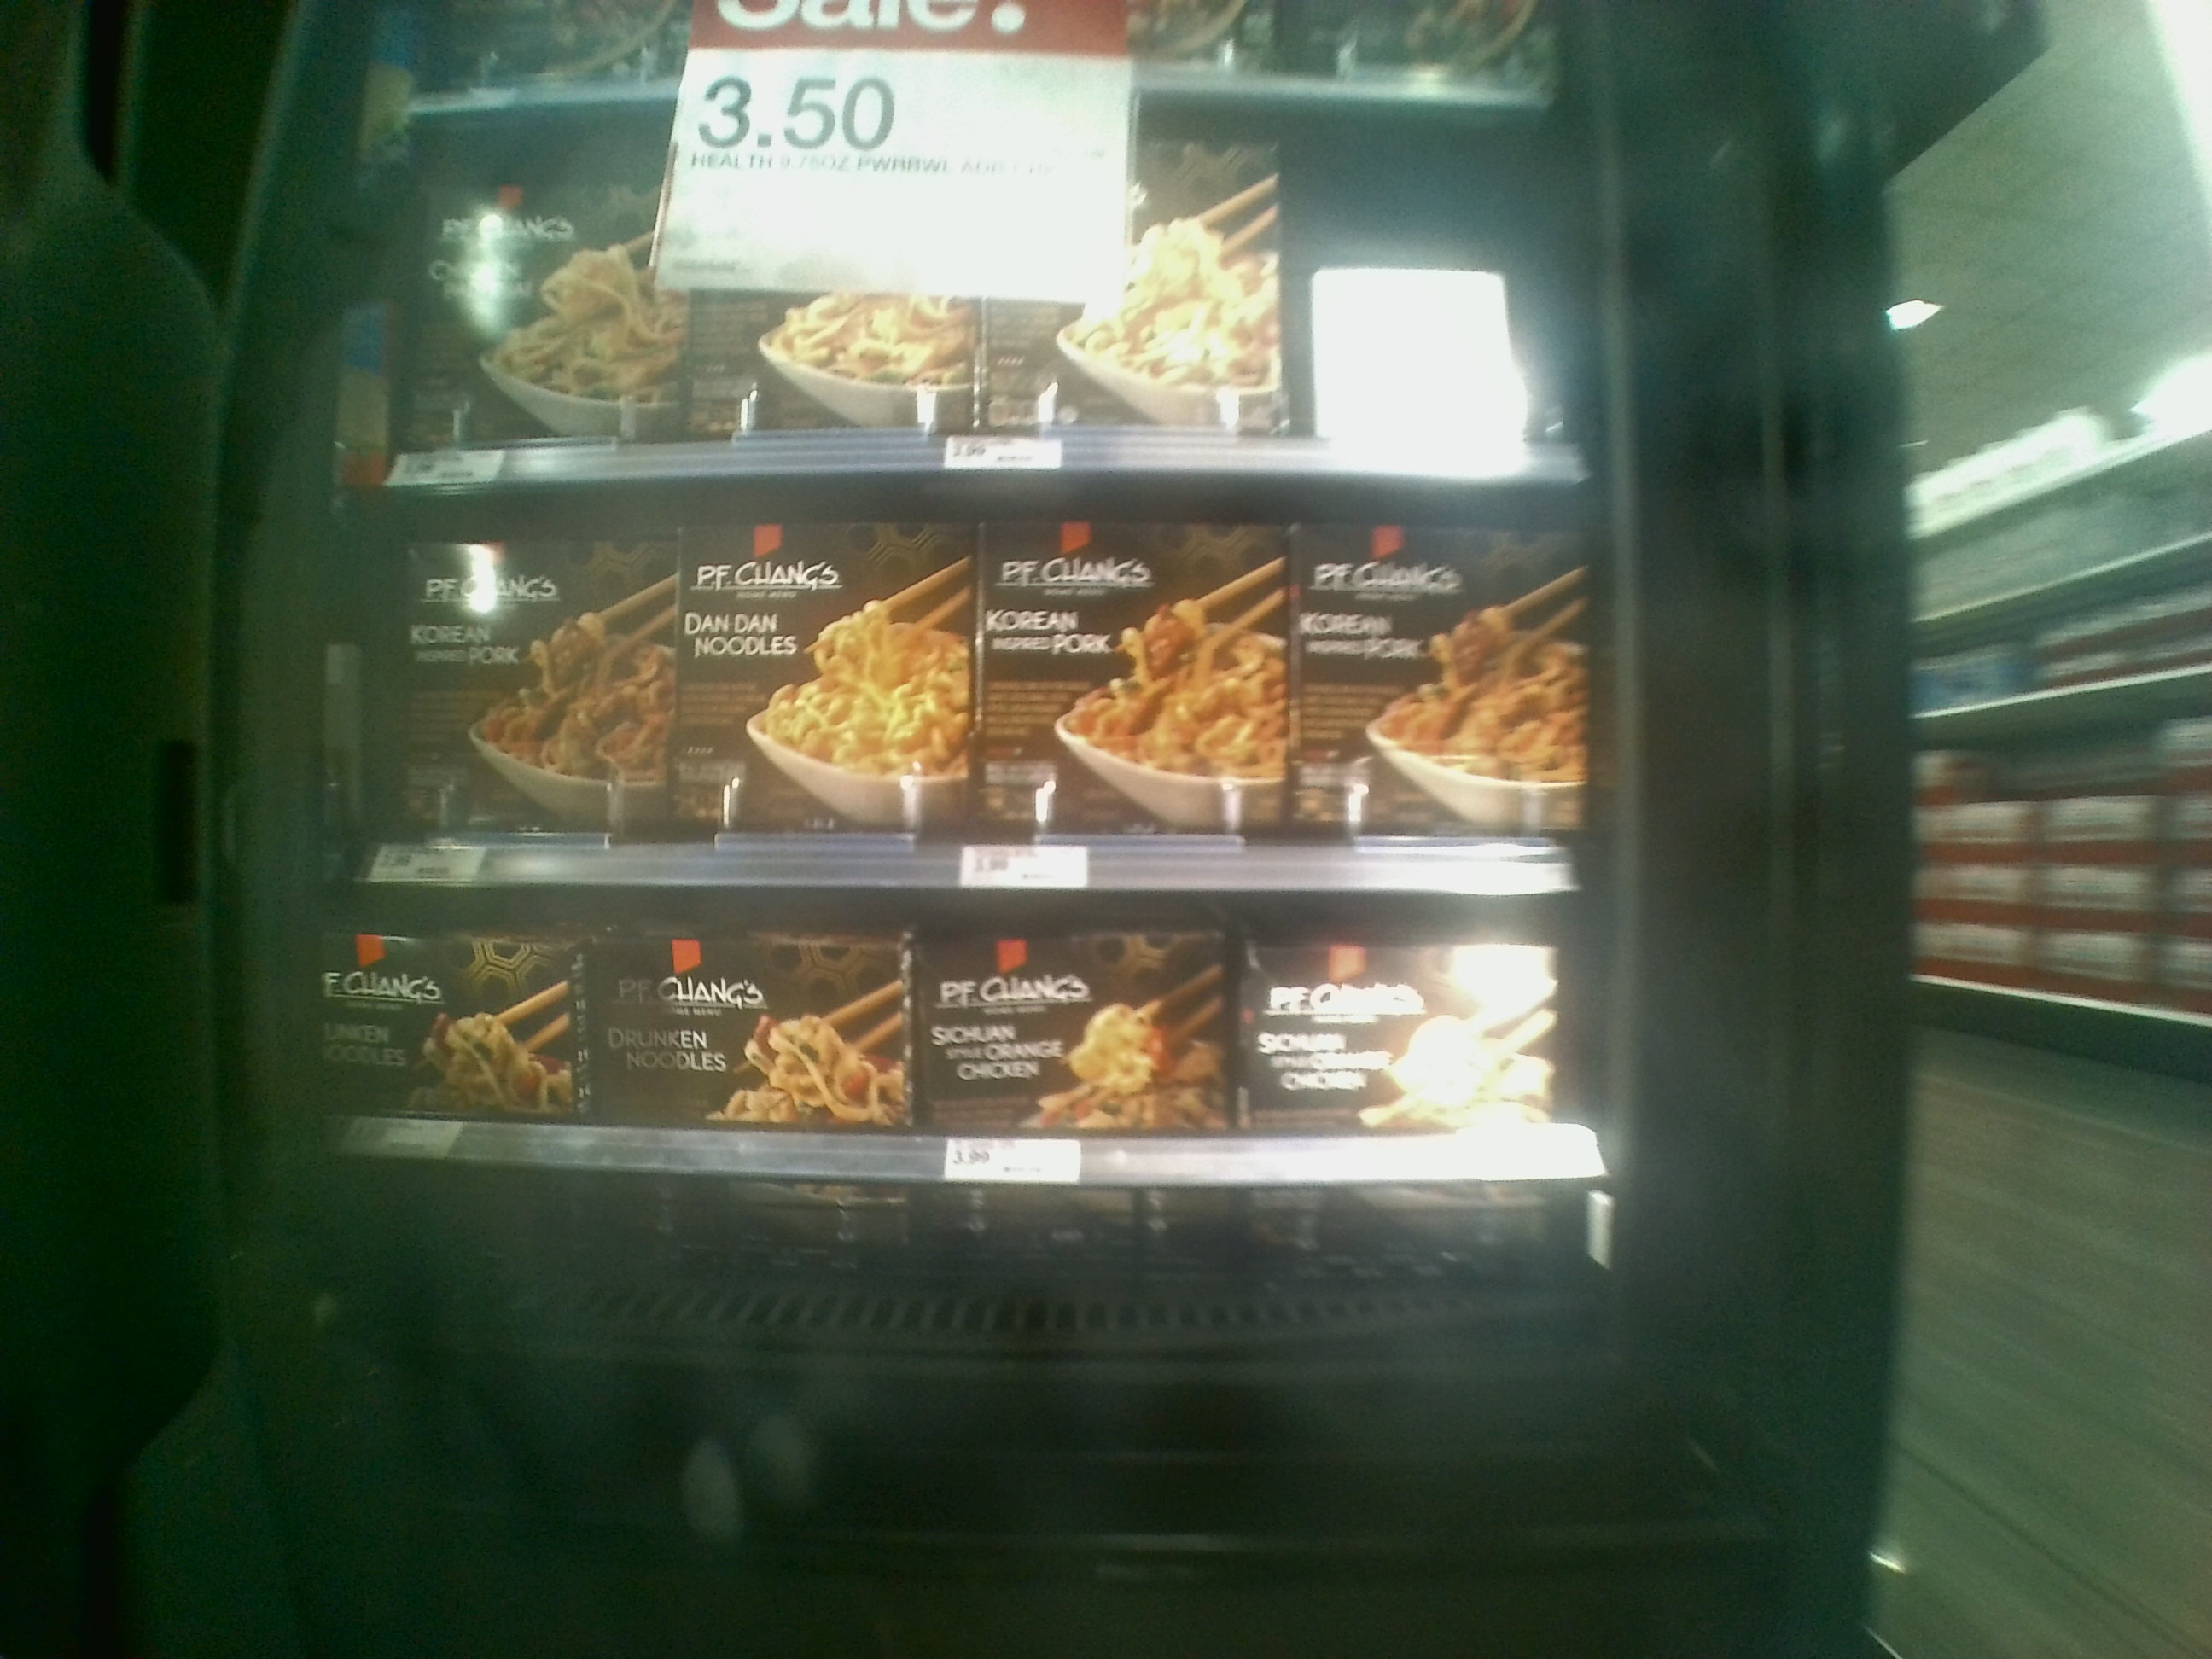shelf: (350, 481, 1580, 894)
